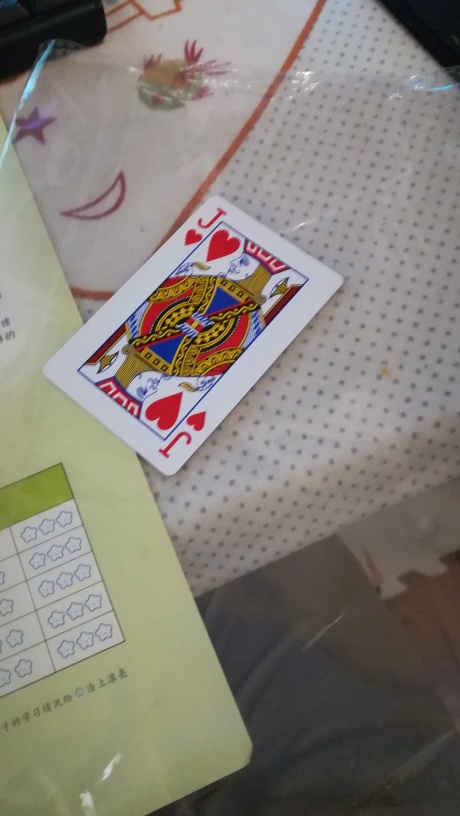hx j: (45, 189, 348, 479)
